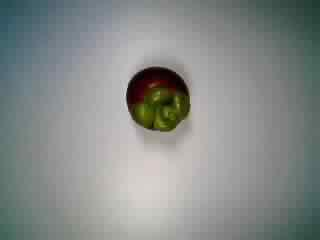mangosteen: (116, 64, 199, 137)
